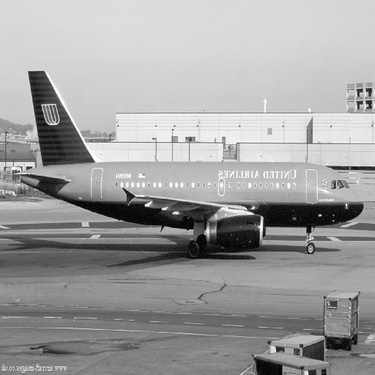airplane: (9, 46, 372, 275)
